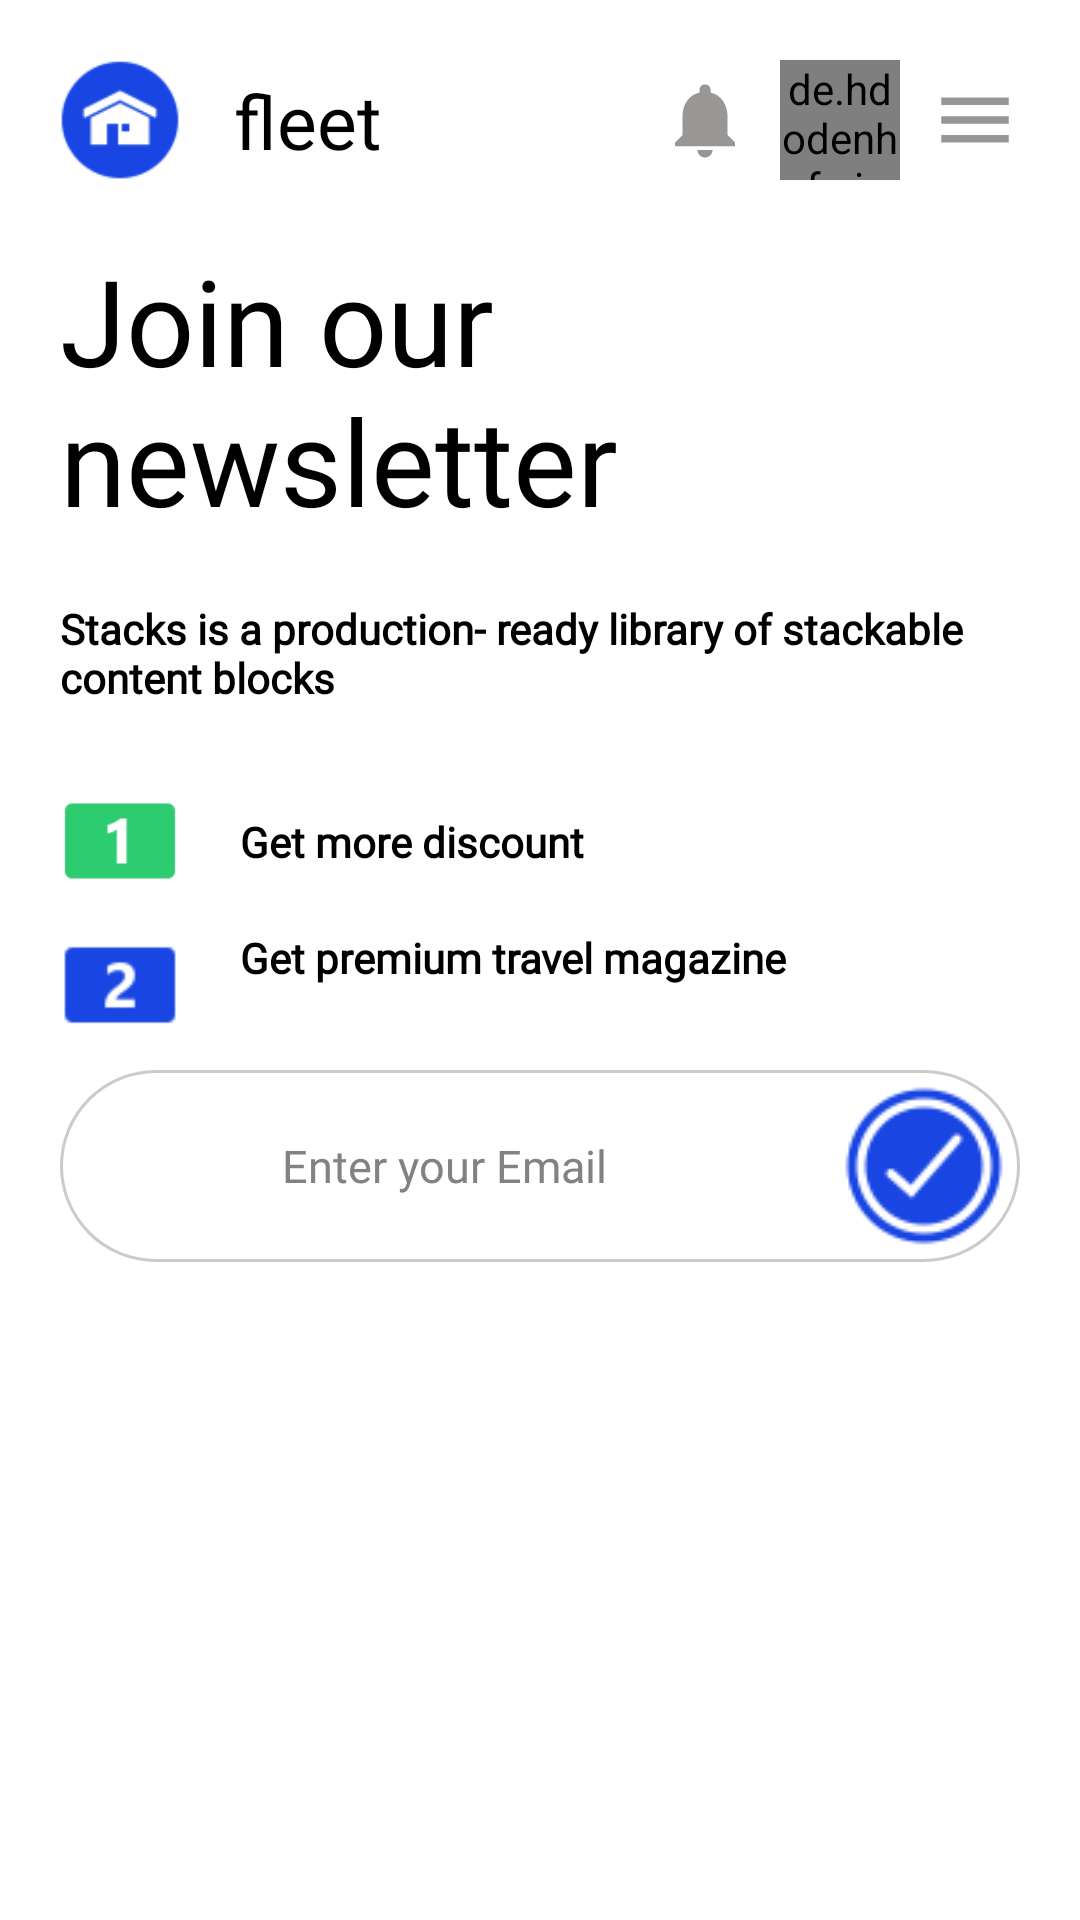

Icons on this 1080 x 1920 Android screen, each with the point to tap as (x,y):
homeiconblue: (120,120)
menu: (975,120)
notification: (705,121)
